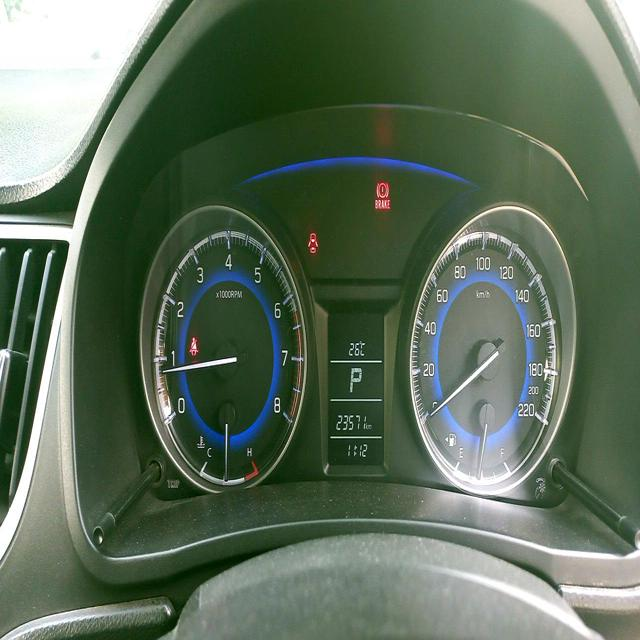odometer: (333, 409, 369, 439)
